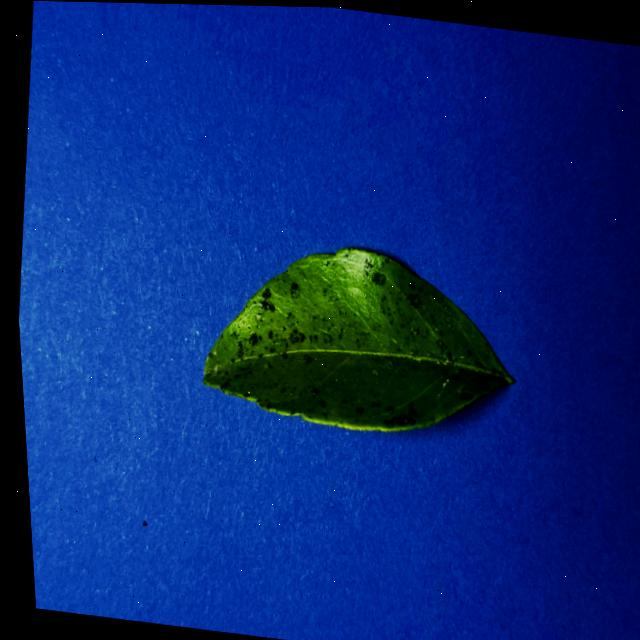sooty_mold: (202, 248, 512, 431)
